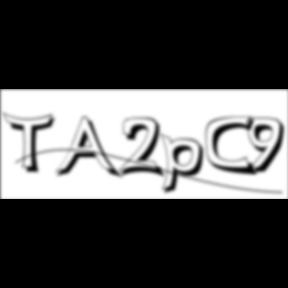2: (119, 117, 169, 181)
A: (55, 116, 124, 182)
C: (206, 115, 260, 178)
T: (3, 112, 61, 176)
p: (161, 132, 211, 198)
